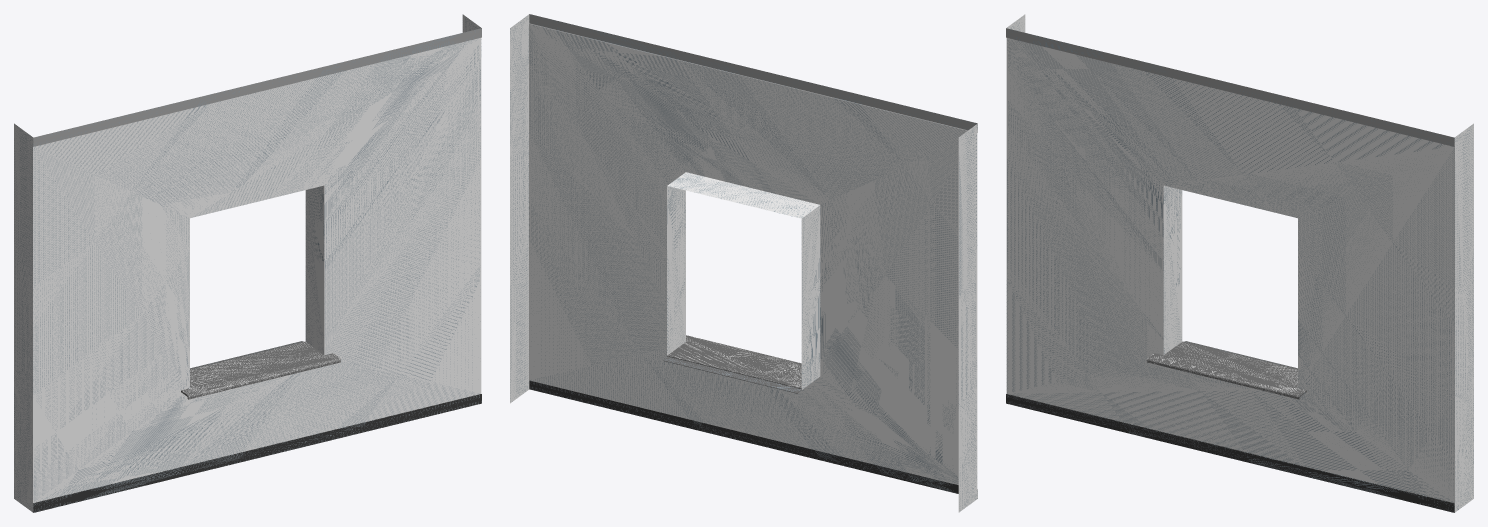
Rendered from WindowBlock_os_plinth_[500x400]_150x181x[090].dae.
3 views of the same model, side by side, from view 1: azimuth 30°, elevation 25°; view 2: azimuth 150°, elevation 25°; view 3: azimuth 330°, elevation 25° (orthographic).
Parts seen in each view (by area): view 1: group_1 (×4), group_2; view 2: group_1 (×4), group_2 (×2); view 3: group_1 (×4), group_2.
Boxes of the visible parts, x1=… form: group_1 (×4): x1=14, y1=14, x2=481, y2=512; group_2: x1=181, y1=341, x2=340, y2=399; group_1 (×4): x1=510, y1=14, x2=977, y2=512; group_2 (×2): x1=663, y1=335, x2=801, y2=393; group_1 (×4): x1=1006, y1=14, x2=1473, y2=512; group_2: x1=1146, y1=341, x2=1306, y2=399.
Bounding box in the file's own units: 197 × 23.03 × 157.
